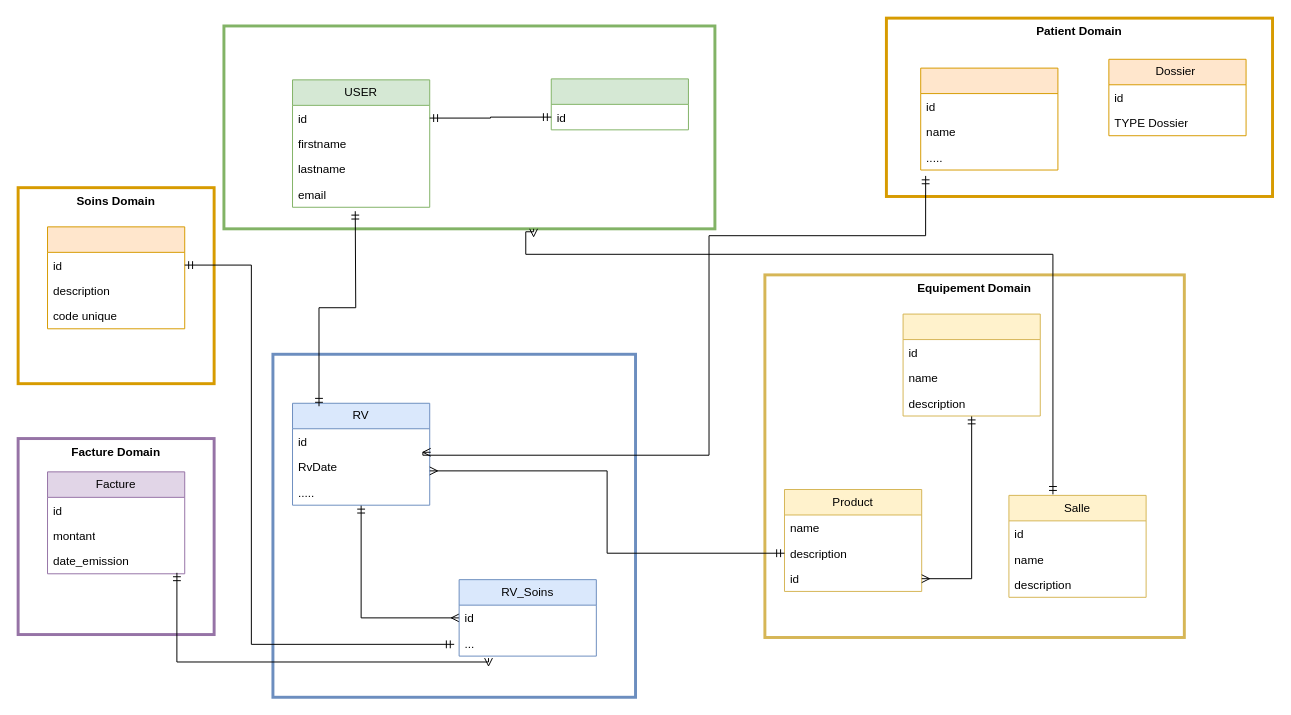
The diagram is 1291 pixels wide and 715 high, and some of its shapes have lost their labels. Each missing label, with the box of its shape:
Domain User avec Keycloak: (222, 24, 716, 230)
Machine: (902, 313, 1040, 416)
Patient: (920, 67, 1058, 170)
RendezVous Domain: (271, 352, 637, 698)
Role: (550, 78, 688, 130)
Soins: (47, 226, 185, 329)
